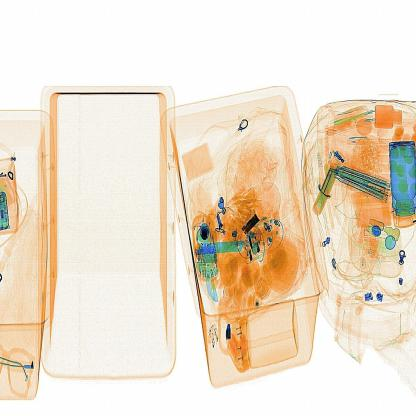pliers: (197, 235, 250, 260)
